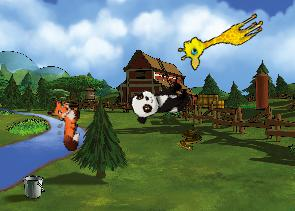fox: (44, 97, 83, 151)
giraffe: (174, 2, 267, 73)
panda: (126, 76, 193, 126)
